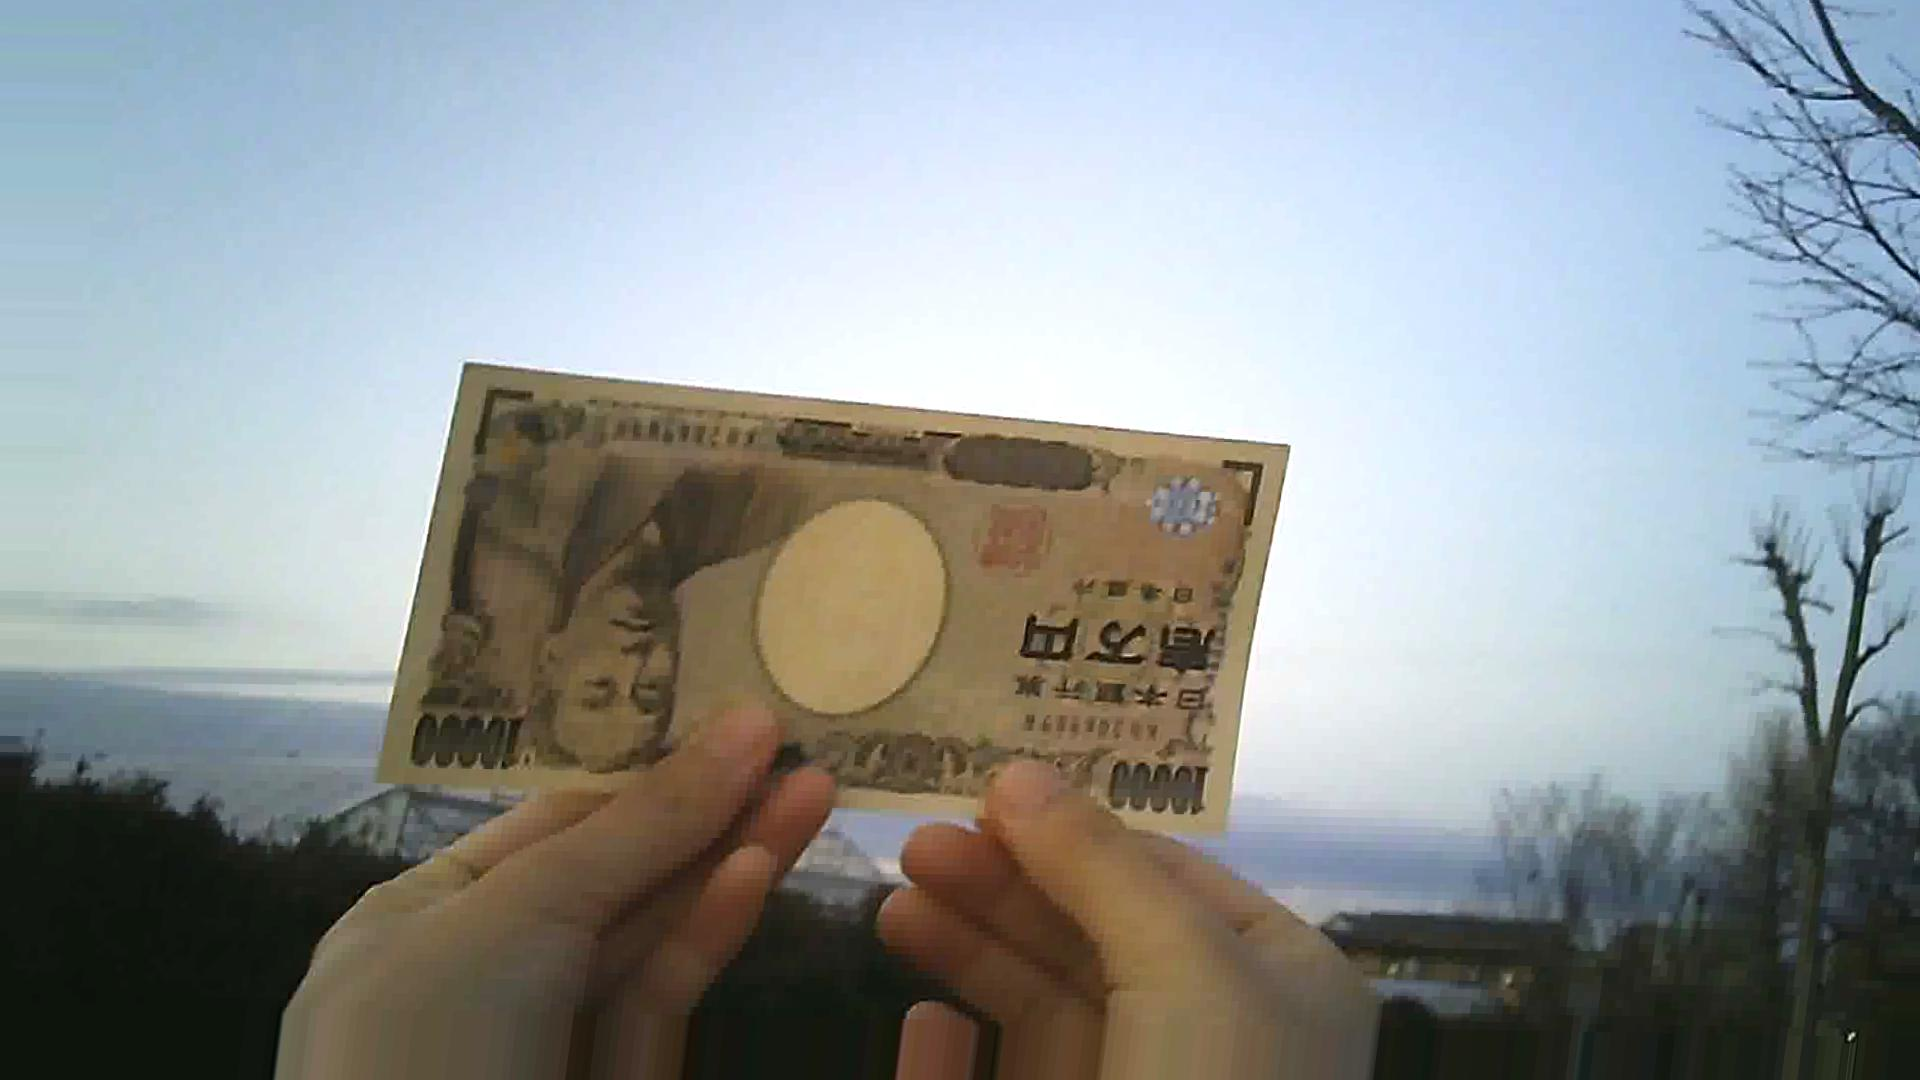10,000 Yen: (373, 367, 1273, 857)
